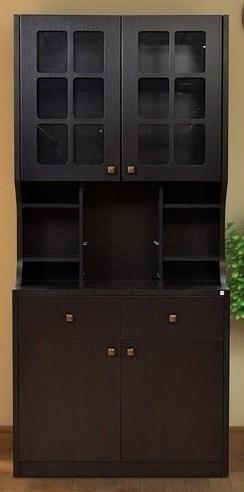cabinet_door: (18, 15, 122, 181), (122, 17, 222, 180), (122, 338, 223, 463), (18, 344, 118, 466), (20, 300, 118, 341), (124, 302, 222, 341)
handle: (61, 308, 76, 331), (125, 342, 136, 363), (167, 310, 179, 329), (106, 344, 117, 363), (104, 164, 118, 177), (126, 164, 139, 176)
